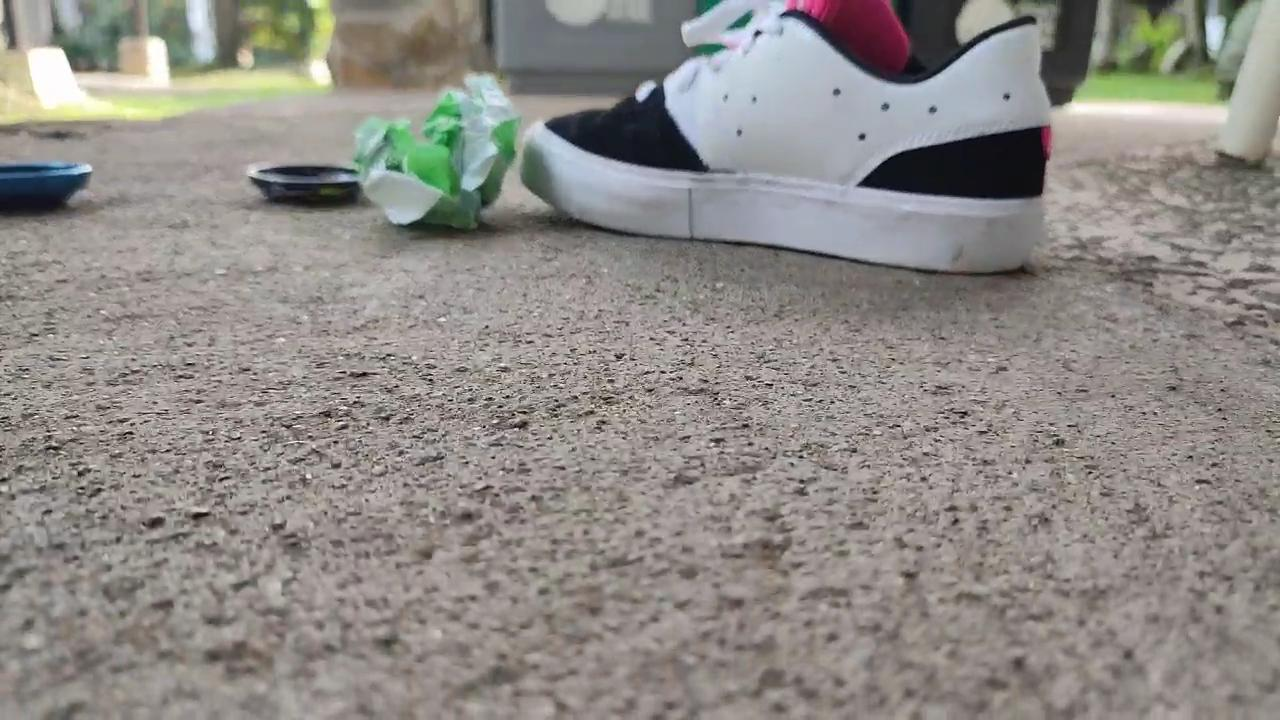Paper: (332, 61, 519, 233)
